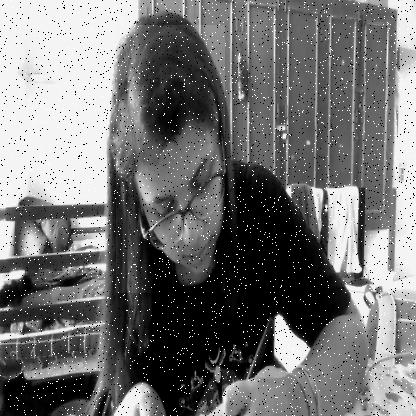Distracted: (116, 25, 225, 293)
